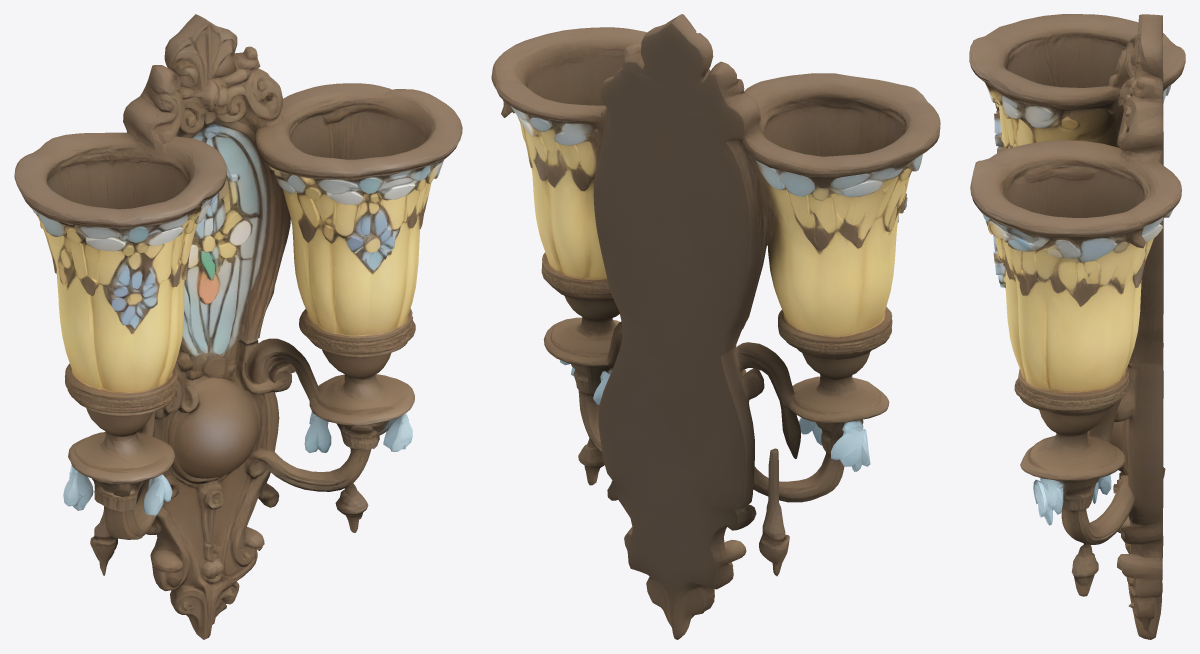
File: double-lamp.glb
3 renders of one model, left to right at view 1: azimuth 30°, elevation 25°; view 2: azimuth 150°, elevation 25°; view 3: azimuth 270°, elevation 25°, orthographic.
Visible parts, largest first — view 1: model; view 2: model; view 3: model.
Part boxes in pixels (x1=…): model: x1=14, y1=14, x2=462, y2=639; model: x1=491, y1=14, x2=940, y2=639; model: x1=969, y1=14, x2=1185, y2=639.
Size of the model in its own units: 1.35 by 1.9 by 0.5967.
1 material, 1 textured.
